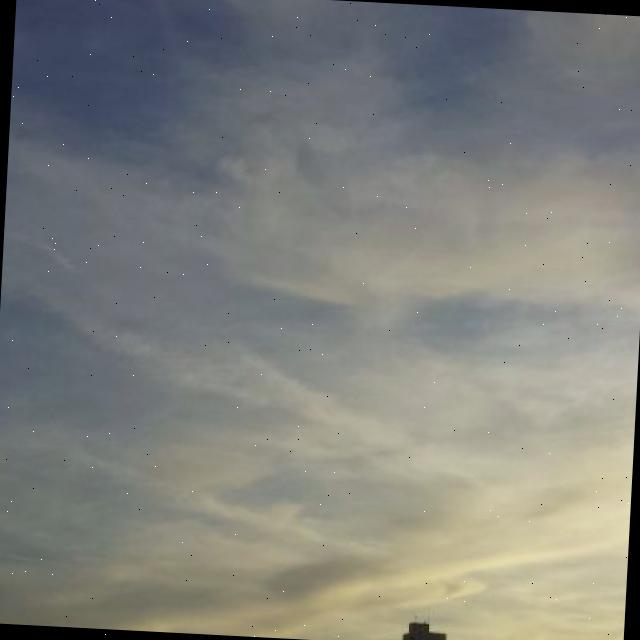Ct: (1, 16, 640, 490)
